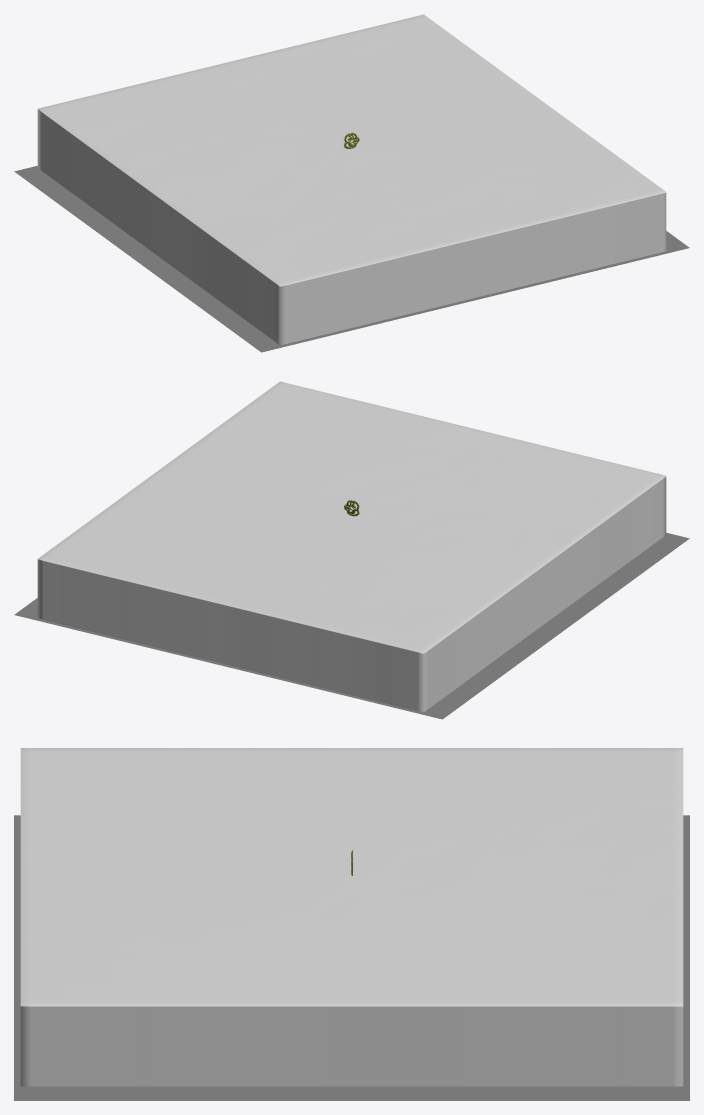
File: underwater.glb
The picture shows the model from 3 angles, top to bottom: view 1: azimuth 30°, elevation 25°; view 2: azimuth 150°, elevation 25°; view 3: azimuth 270°, elevation 25°; orthographic projection. The views are drawn at different scales.
Parts seen in each view (by area): view 1: Cube, Plane; view 2: Cube, Plane; view 3: Cube, Plane.
Part boxes in pixels (x1,y1,x2,y2): Cube: [37, 14, 666, 345]; Plane: [14, 165, 689, 352]; Cube: [37, 381, 666, 712]; Plane: [14, 532, 689, 719]; Cube: [20, 748, 683, 1086]; Plane: [14, 815, 689, 1100].
Bounding box in the file's own units: 31.51 × 5.46 × 31.51.
Materials: 3 (1 with a texture image).
